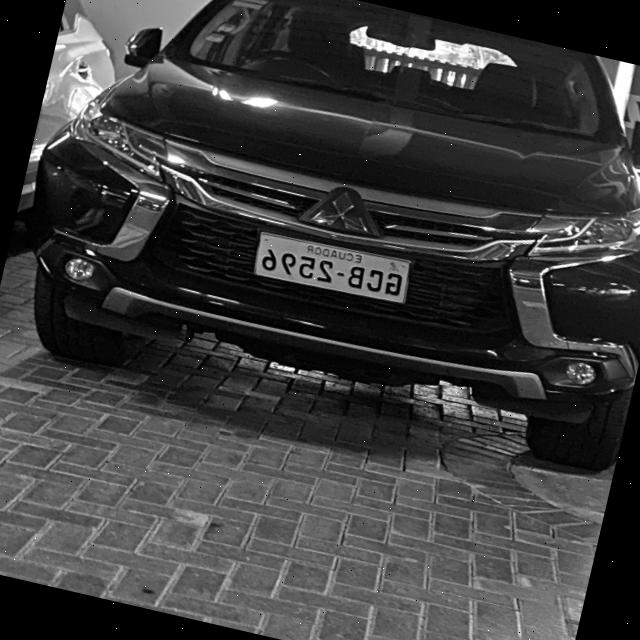Placa: (254, 233, 409, 303)
